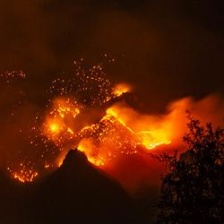fire: (41, 97, 174, 165)
